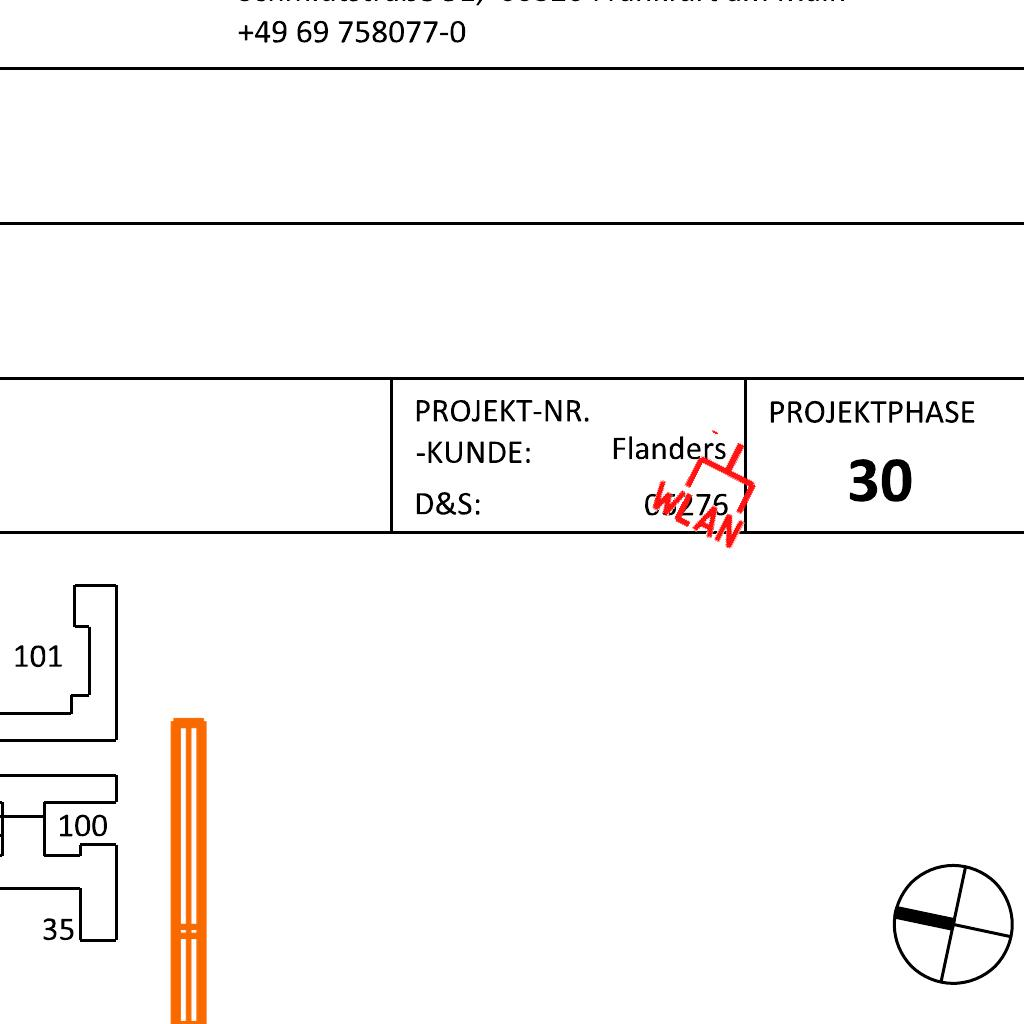Ambulanz_Pendelleuchte_LED: (158, 707, 270, 1024)
WLAN: (641, 412, 782, 554)
